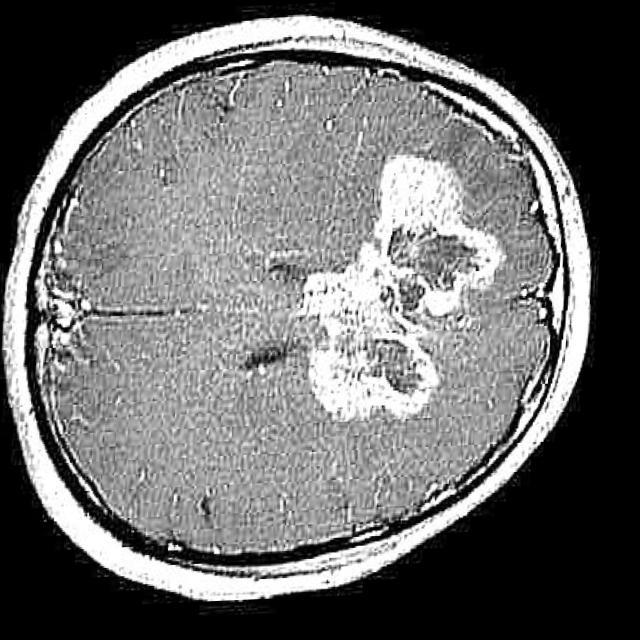Tumor: (305, 160, 500, 426)
